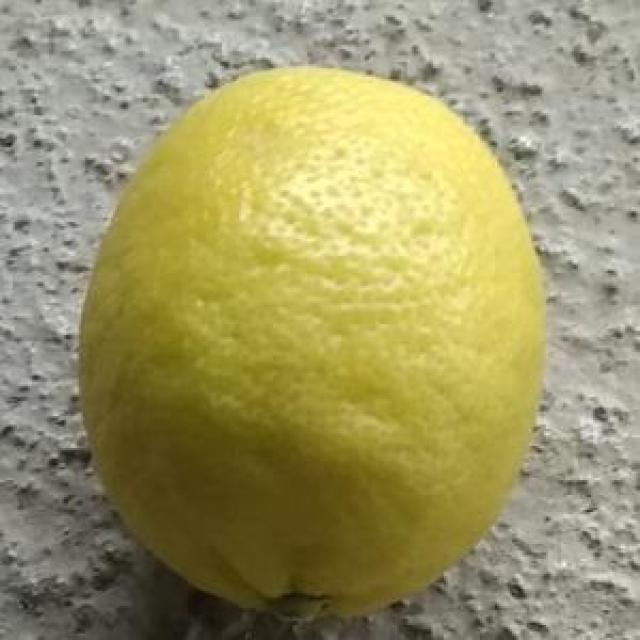lemon: (78, 57, 554, 628)
